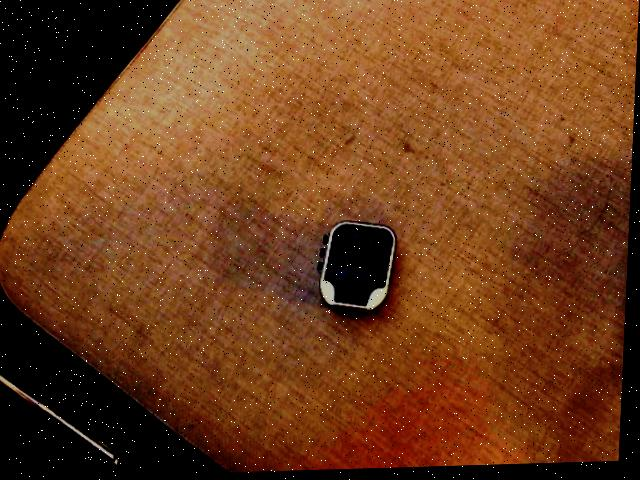adapter: (318, 221, 399, 316)
